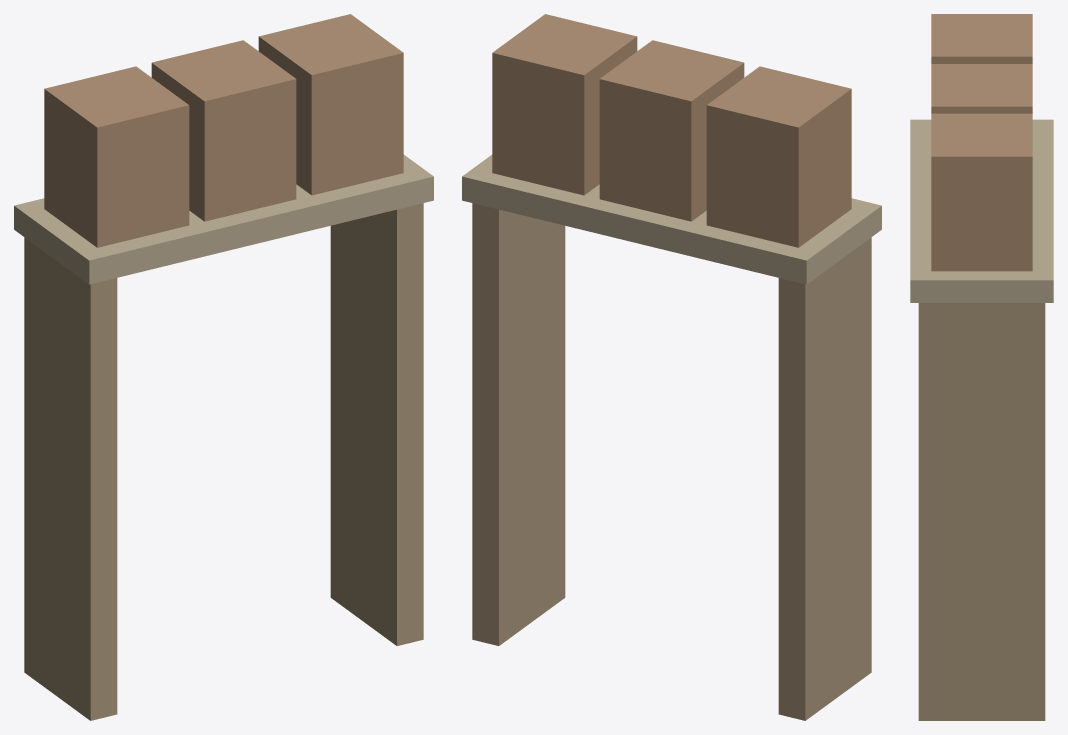
Rendered from trench-line-1917-ammunition-shelf-6baafa7d__24055.glb.
3 renders of one model, left to right at view 1: azimuth 30°, elevation 25°; view 2: azimuth 150°, elevation 25°; view 3: azimuth 270°, elevation 25°, orthographic. The views are drawn at different scales.
Visible parts, largest first — view 1: ammunition-shelf; view 2: ammunition-shelf; view 3: ammunition-shelf.
Boxes of the visible parts, x1,y1,x2,y2 form: ammunition-shelf: [14, 14, 433, 720]; ammunition-shelf: [462, 14, 881, 720]; ammunition-shelf: [910, 14, 1053, 720].
Size of the model in its own units: 0.9 by 1.46 by 0.34.
